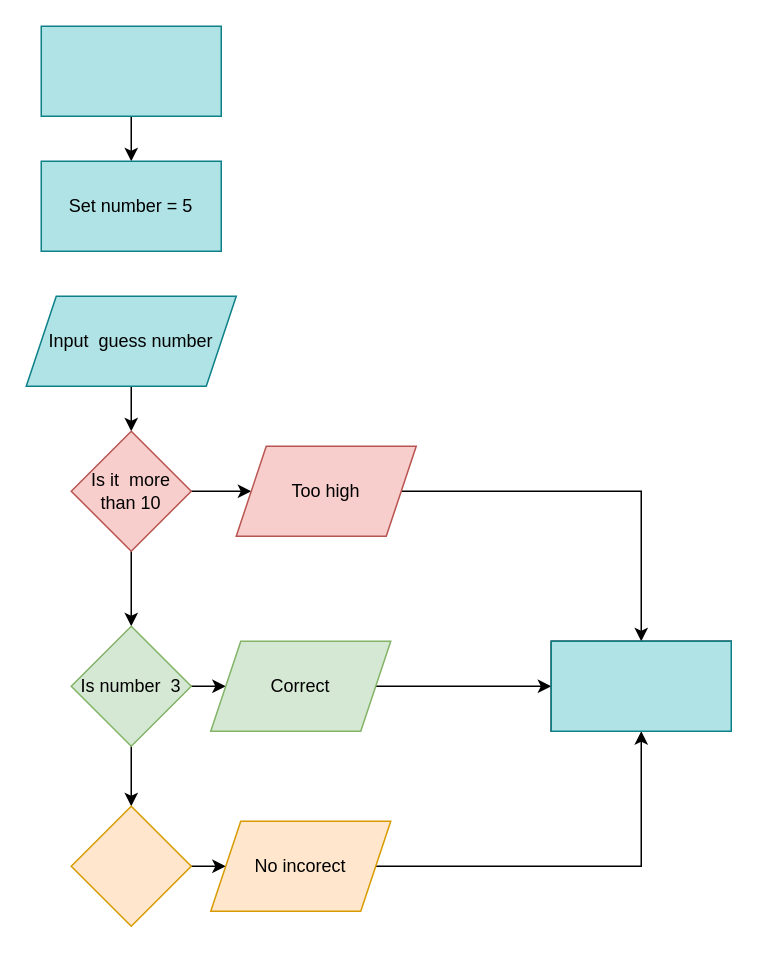
Some shapes in this 758 by 953 pixel diagram are drawn without their labels. The centre of each missing label's shape, as x and y in pixels:
End: (x=640, y=685)
Incorrect: (x=130, y=865)
Start: (x=130, y=70)
